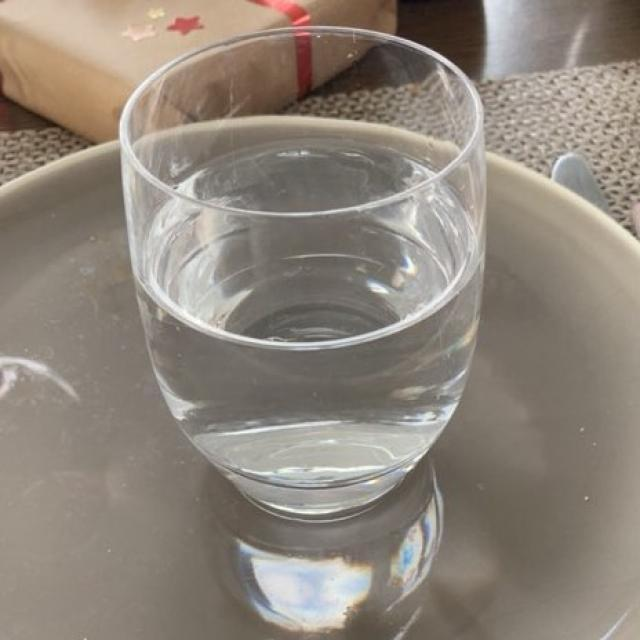water: (145, 146, 473, 504)
